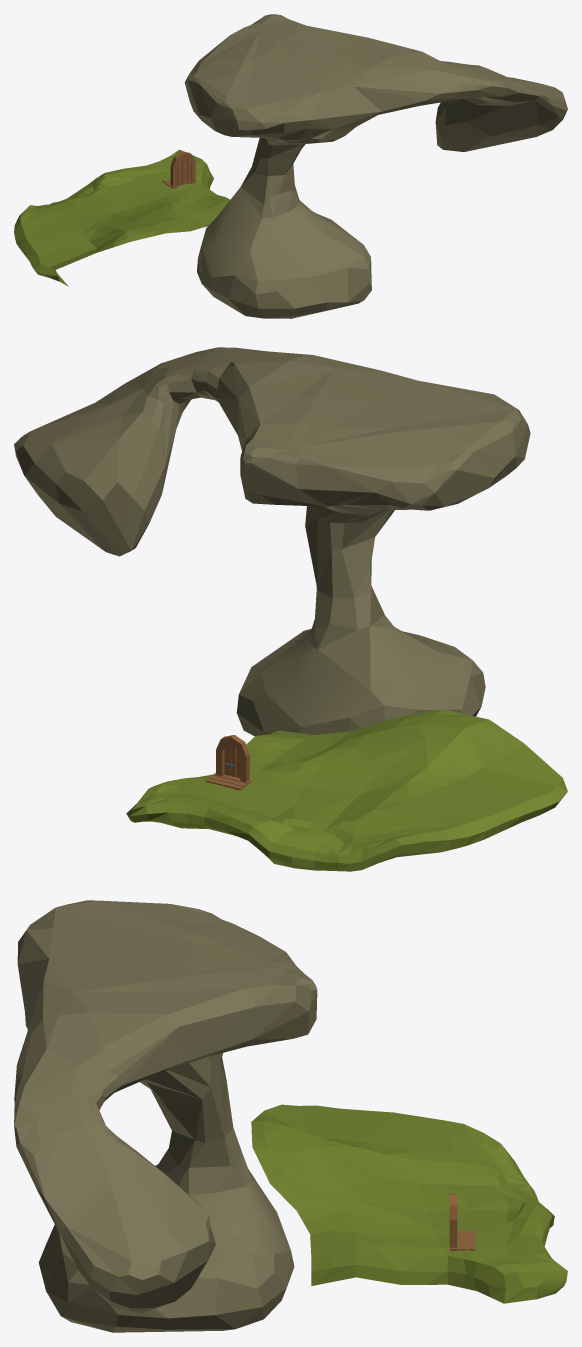
3 renders of one model, top to bottom at view 1: azimuth 30°, elevation 25°; view 2: azimuth 150°, elevation 25°; view 3: azimuth 270°, elevation 25°, orthographic. The views are drawn at different scales.
Visible parts, largest first — view 1: Box1002_rock2_0, Plane240_green2_0, Object231_brown_0; view 2: Box1002_rock2_0, Plane240_green2_0, Object231_brown_0; view 3: Box1002_rock2_0, Plane240_green2_0.
Part boxes in pixels (x1,y1,x2,y2): Box1002_rock2_0: (184,14,567,318); Plane240_green2_0: (14,149,229,286); Object231_brown_0: (170,151,195,188); Box1002_rock2_0: (14,347,530,736); Plane240_green2_0: (126,709,567,871); Object231_brown_0: (216,735,249,782); Box1002_rock2_0: (14,900,317,1332); Plane240_green2_0: (251,1104,567,1303).
Bounding box in the file's own units: 3900 × 1918 × 2762.
